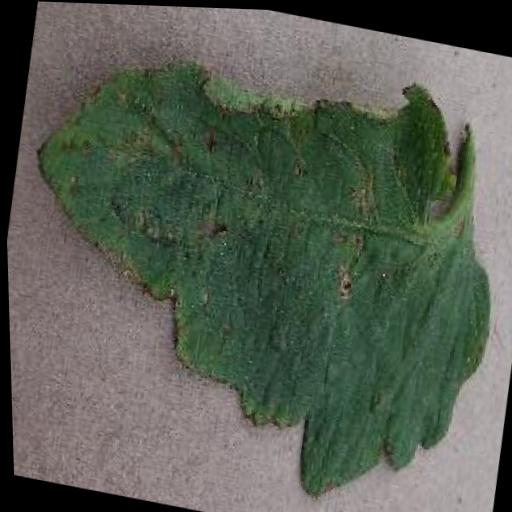Bacterial Spot: (0, 2, 512, 512)
